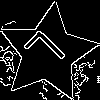L: (22, 27, 75, 80)
